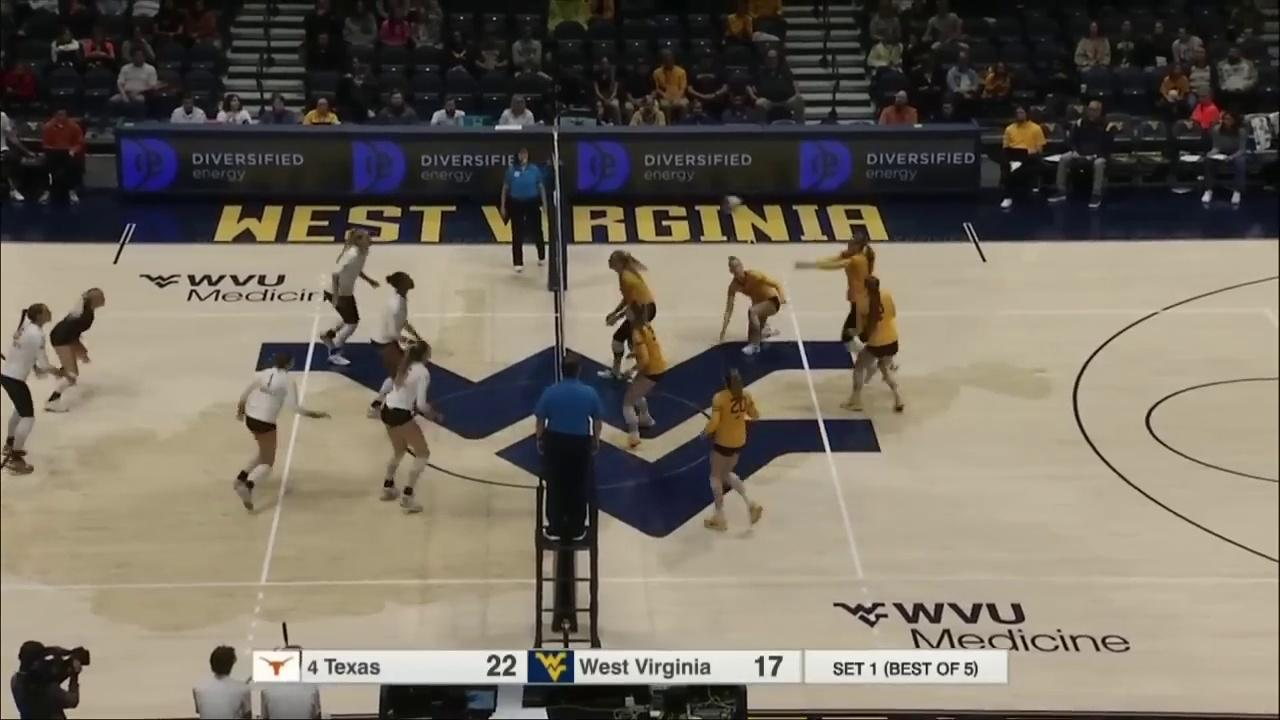player: (233, 353, 325, 510), (812, 234, 896, 383), (0, 304, 67, 476), (701, 366, 764, 532), (382, 341, 435, 514), (365, 271, 423, 417), (598, 250, 659, 385), (844, 275, 903, 413), (318, 227, 374, 371), (45, 288, 107, 413), (621, 301, 666, 452), (720, 257, 787, 354)
refree: (539, 352, 601, 539), (502, 145, 551, 269)
